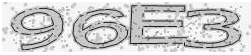3: (185, 8, 242, 51)
6: (72, 5, 131, 53)
9: (8, 3, 70, 52)
E: (128, 3, 188, 47)
